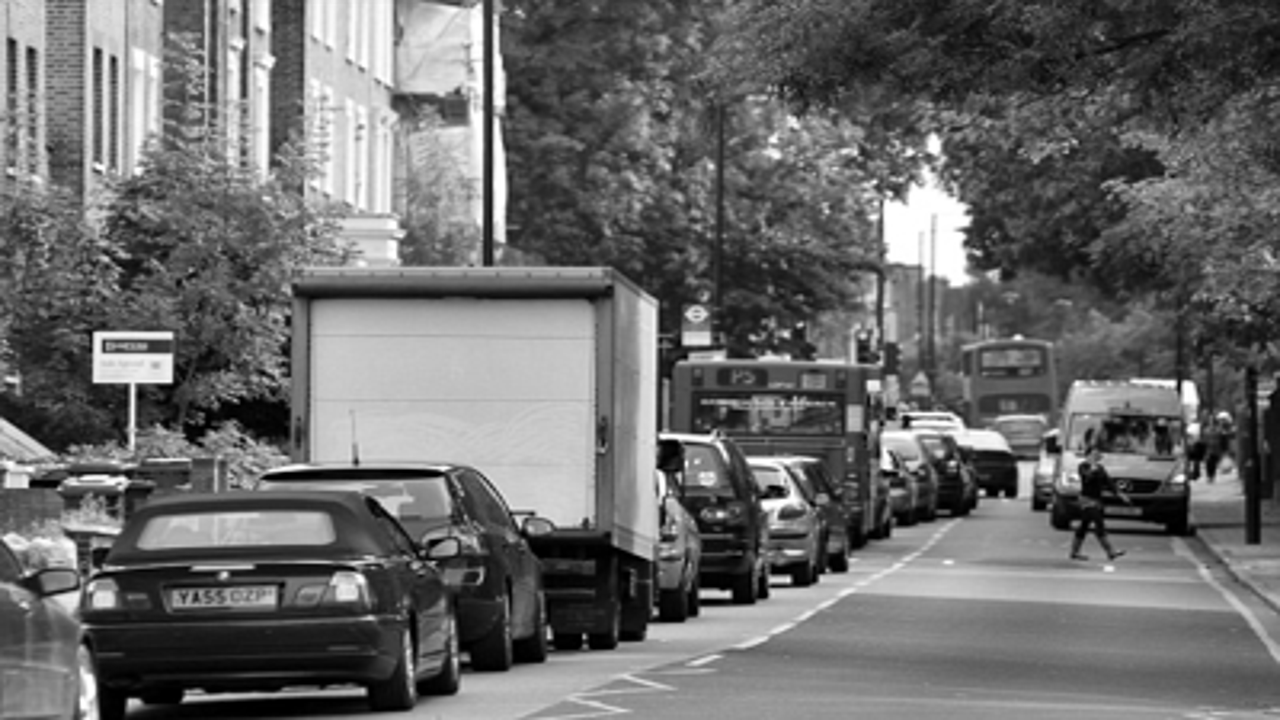license: (161, 581, 286, 615)
